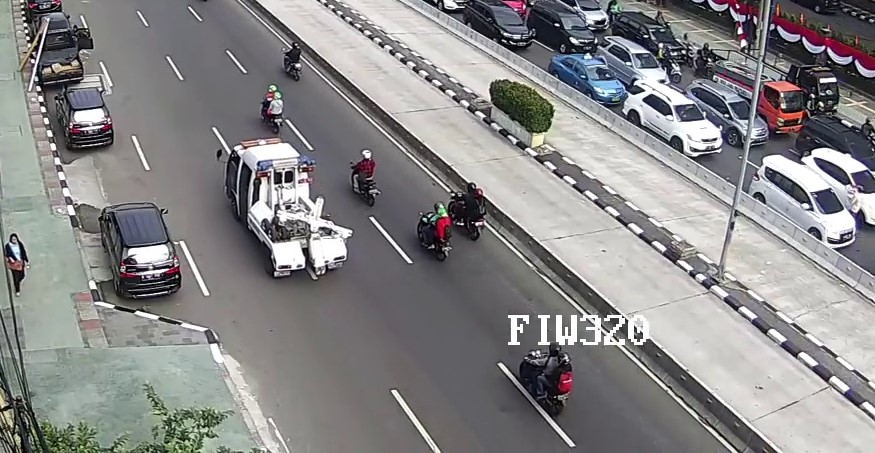car: (225, 133, 350, 279), (711, 35, 840, 124), (752, 152, 854, 250), (99, 202, 181, 301), (623, 78, 725, 156), (713, 58, 805, 139), (804, 146, 875, 232), (684, 78, 767, 147), (796, 116, 874, 178), (26, 16, 87, 90), (595, 36, 669, 94), (550, 51, 626, 106), (54, 85, 116, 152), (613, 13, 685, 68), (527, 2, 597, 56), (485, 1, 531, 51)
motorbike: (522, 341, 568, 418), (417, 201, 452, 261), (450, 183, 484, 243), (349, 148, 378, 206), (259, 83, 284, 132), (657, 43, 682, 85), (285, 41, 303, 80), (697, 43, 713, 77), (681, 34, 695, 71), (859, 118, 875, 150)
